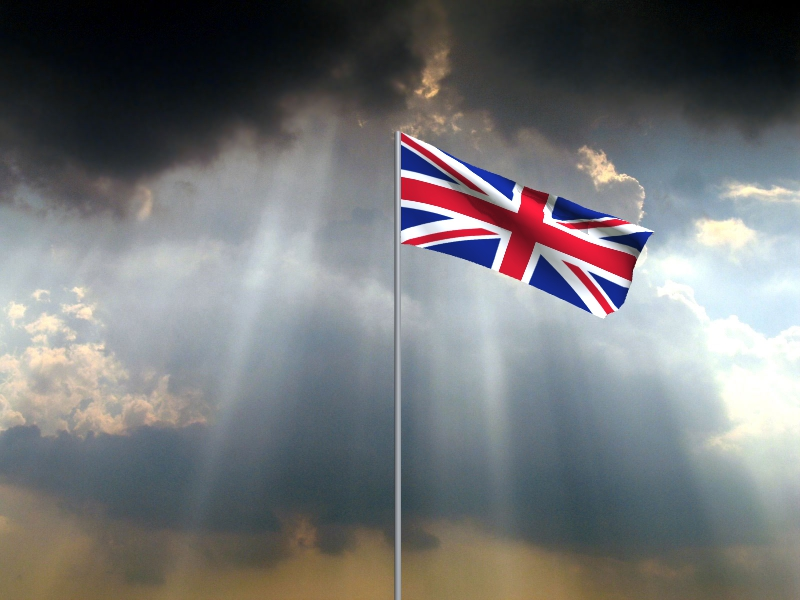gb: (402, 134, 656, 320)
